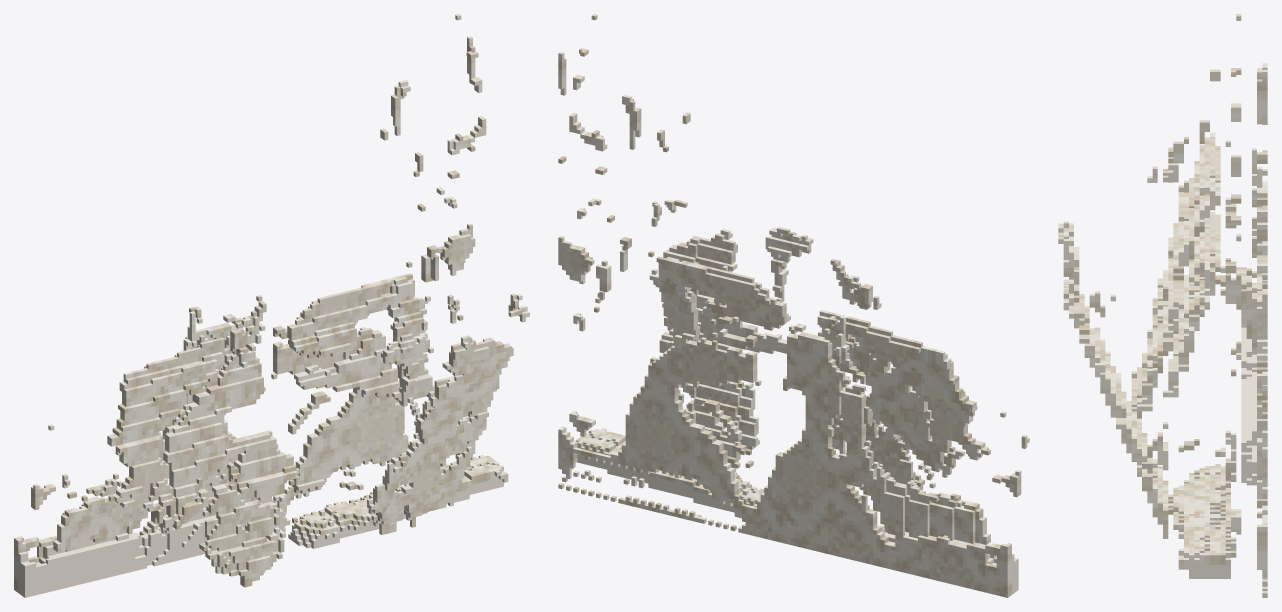
Rendered from w6.vox.obj.
3 renders of one model, left to right at view 1: azimuth 30°, elevation 25°; view 2: azimuth 150°, elevation 25°; view 3: azimuth 270°, elevation 25°, orthographic. The views are drawn at different scales.
Visible parts, largest first — view 1: wall paper; view 2: wall paper; view 3: wall paper.
Boxes of the visible parts, x1=… form: wall paper: x1=14, y1=14, x2=529, y2=597; wall paper: x1=558, y1=14, x2=1029, y2=597; wall paper: x1=1058, y1=14, x2=1267, y2=597.
Bounding box in the file's own units: 12 × 12 × 4.
Materials: 1 (1 with a texture image).
